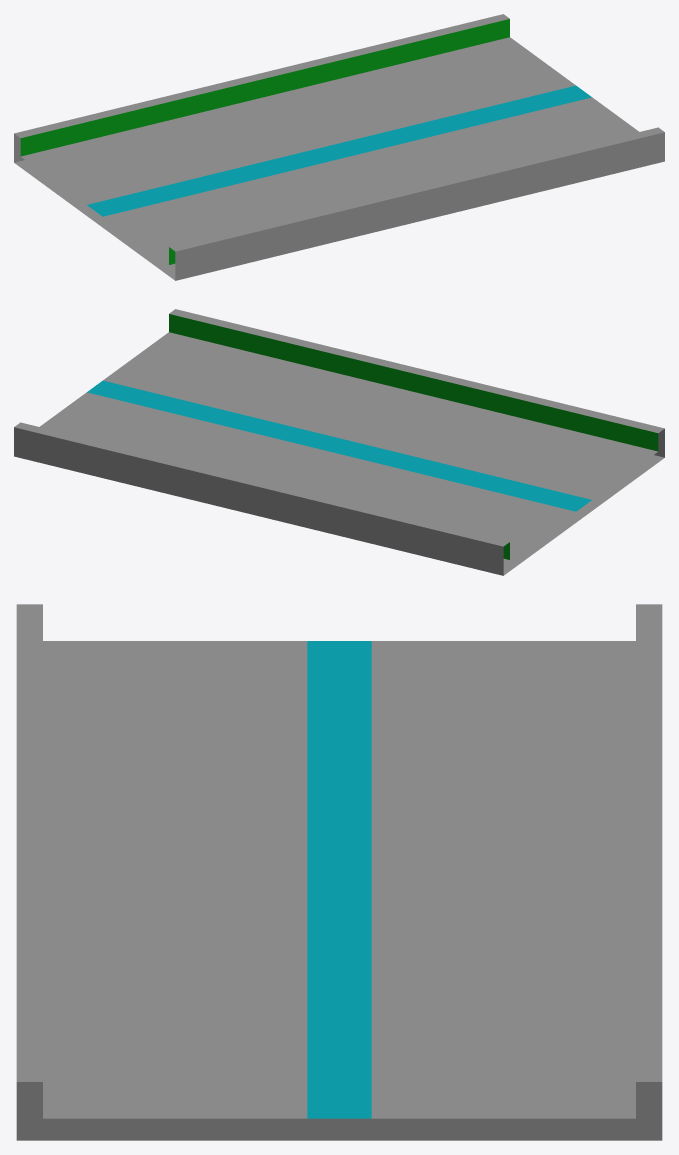
The model's file is mesh_road_straight_02.FBX.
3 renders of one model, top to bottom at view 1: azimuth 30°, elevation 25°; view 2: azimuth 150°, elevation 25°; view 3: azimuth 270°, elevation 25°, orthographic. The views are drawn at different scales.
Visible parts, largest first — view 1: Box001; view 2: Box001; view 3: Box001.
Part boxes in pixels (x1,y1,x2,y2): Box001: (14, 14, 664, 280); Box001: (14, 309, 664, 575); Box001: (16, 604, 662, 1140).
Bounding box in the file's own units: 70 × 4 × 40.
